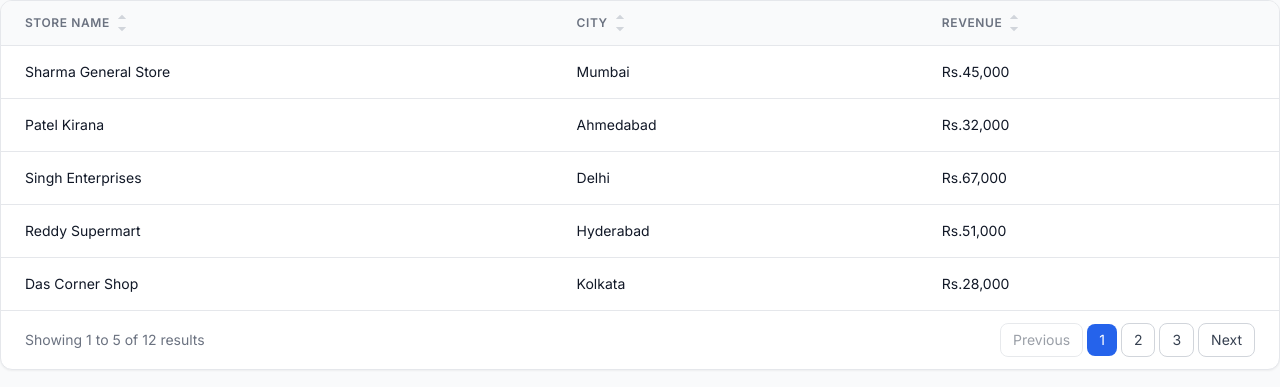
Scenario: DataTable › Pagination › should navigate to next page
What coordinates should you click on to do the following:
click the button "Next"
I would click on:
 (1227, 340)
Its box is top-left (1198, 323), bottom-right (1255, 357).
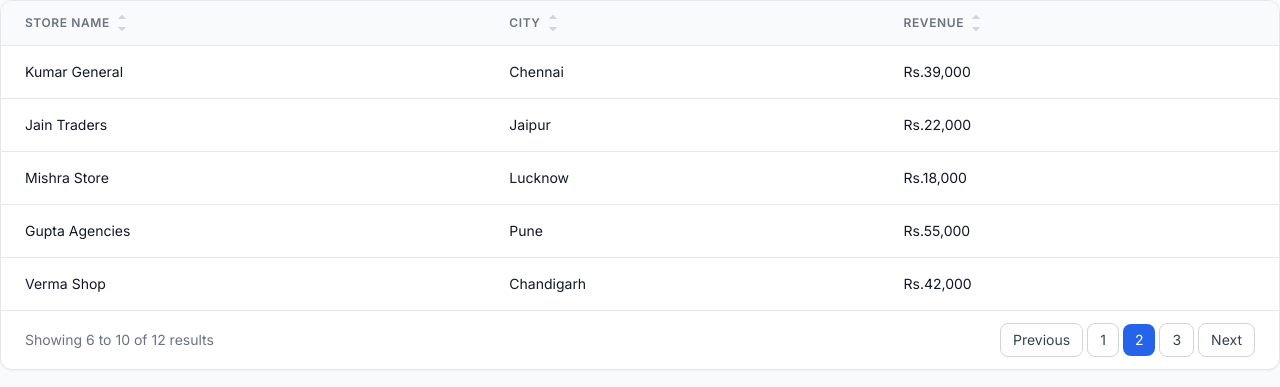
Result: the text "Kumar General" is shown at top-left (1, 46), bottom-right (485, 98)
Result: the text "Showing 6 to 10 of 12 results" is shown at top-left (25, 330), bottom-right (214, 350)
